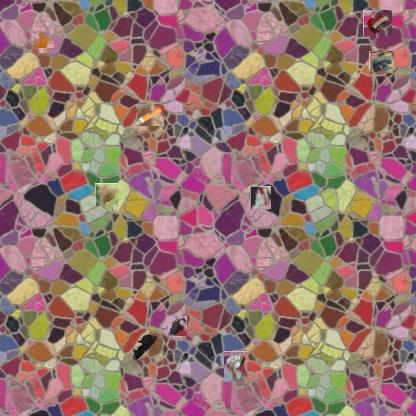dirty: (129, 334, 157, 364), (363, 10, 392, 36), (224, 351, 248, 382), (136, 104, 164, 127), (369, 51, 394, 74), (95, 183, 118, 206), (250, 186, 271, 209)
liquid: (167, 316, 187, 336), (36, 36, 52, 50)
